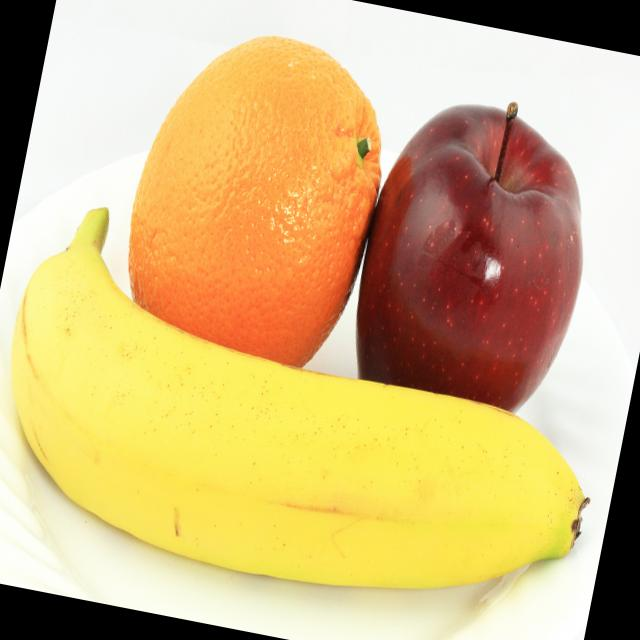apple: (324, 84, 610, 436)
banana: (0, 233, 616, 640)
orange: (89, 0, 419, 420)
